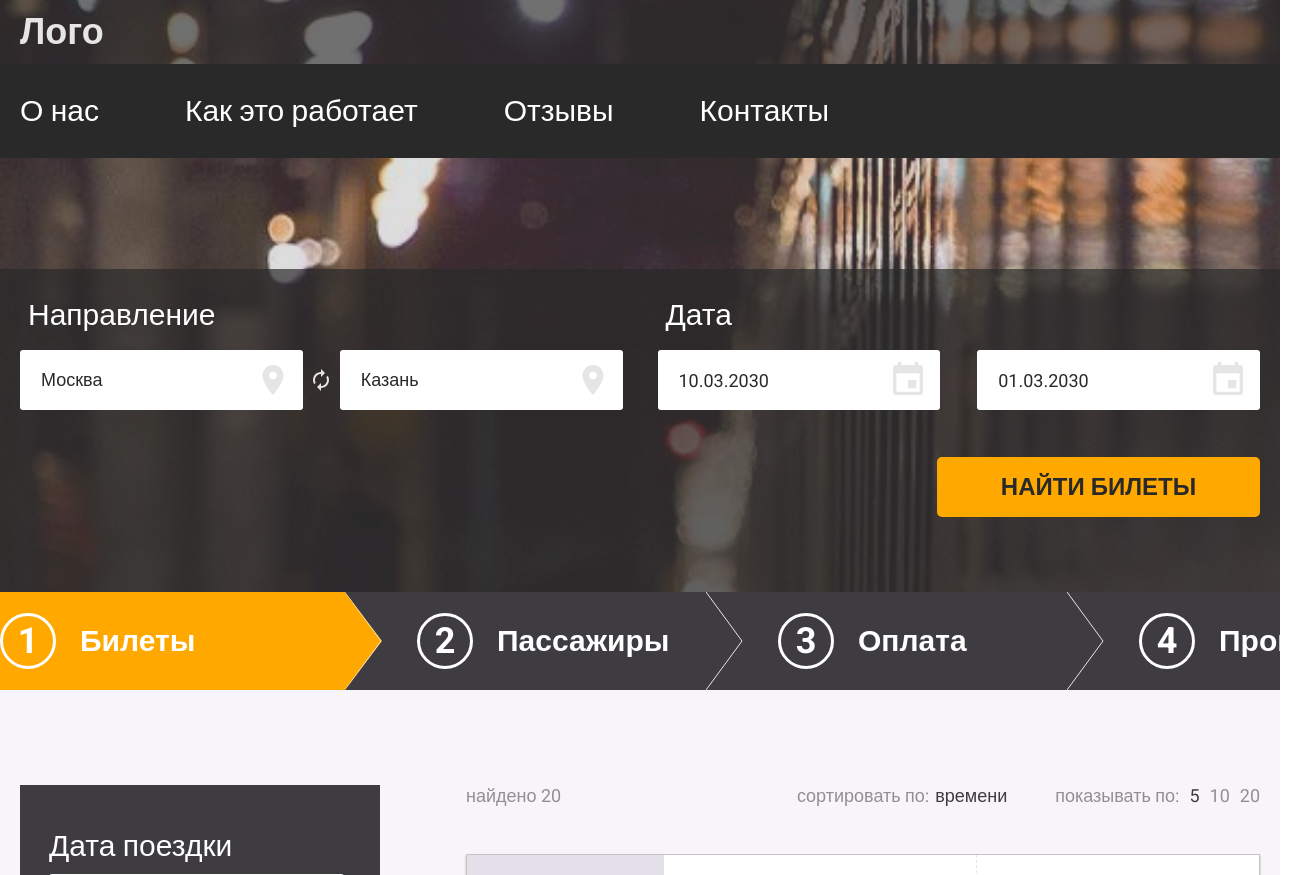
Test: поиск билетов › не принимает обратную дату раньше прямой
The image size is (1292, 875).
Click the button "Найти билеты": (1098, 487) [937,457,1260,517]
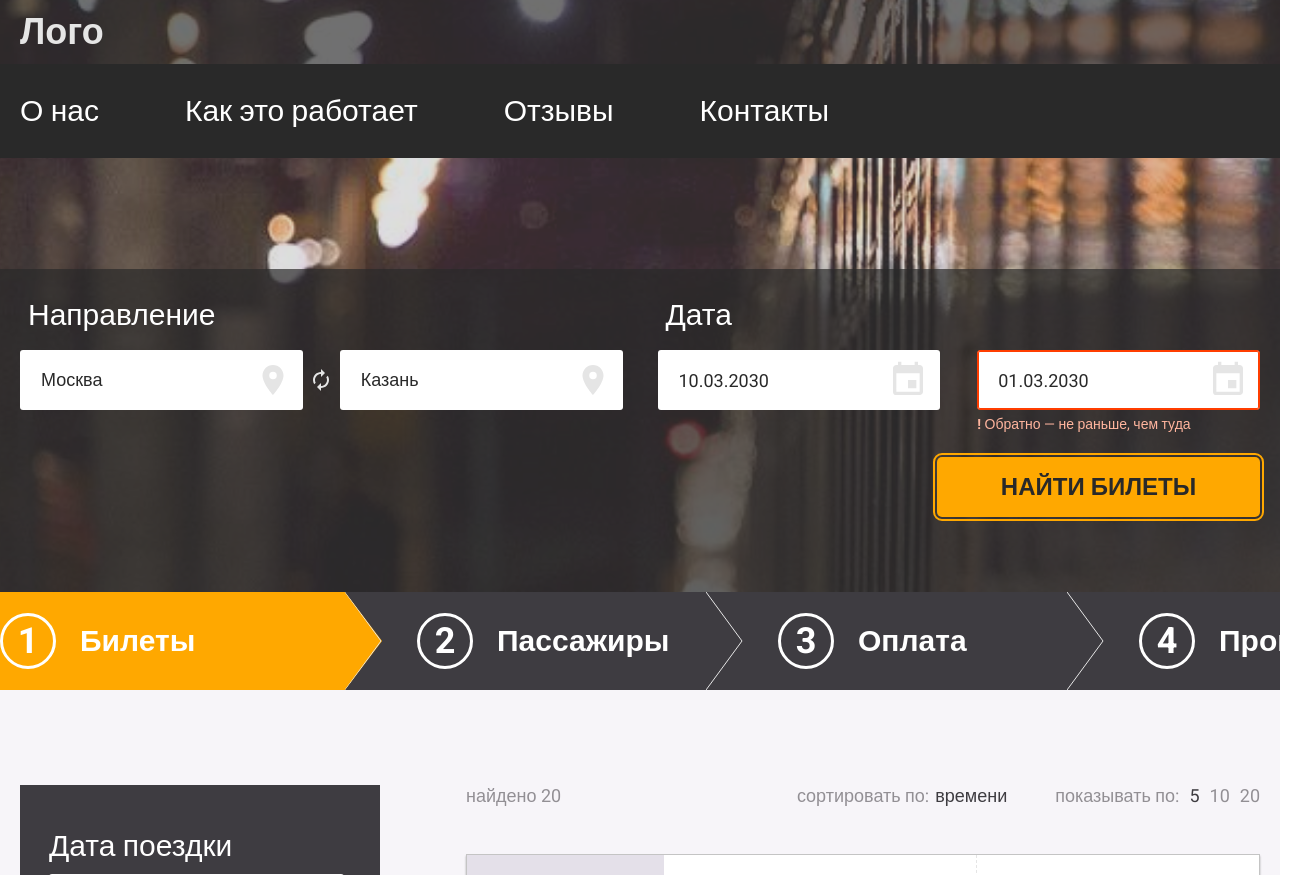
Expected: the text "Обратно — не раньше, чем туда" is shown, [977,416,1191,432]
